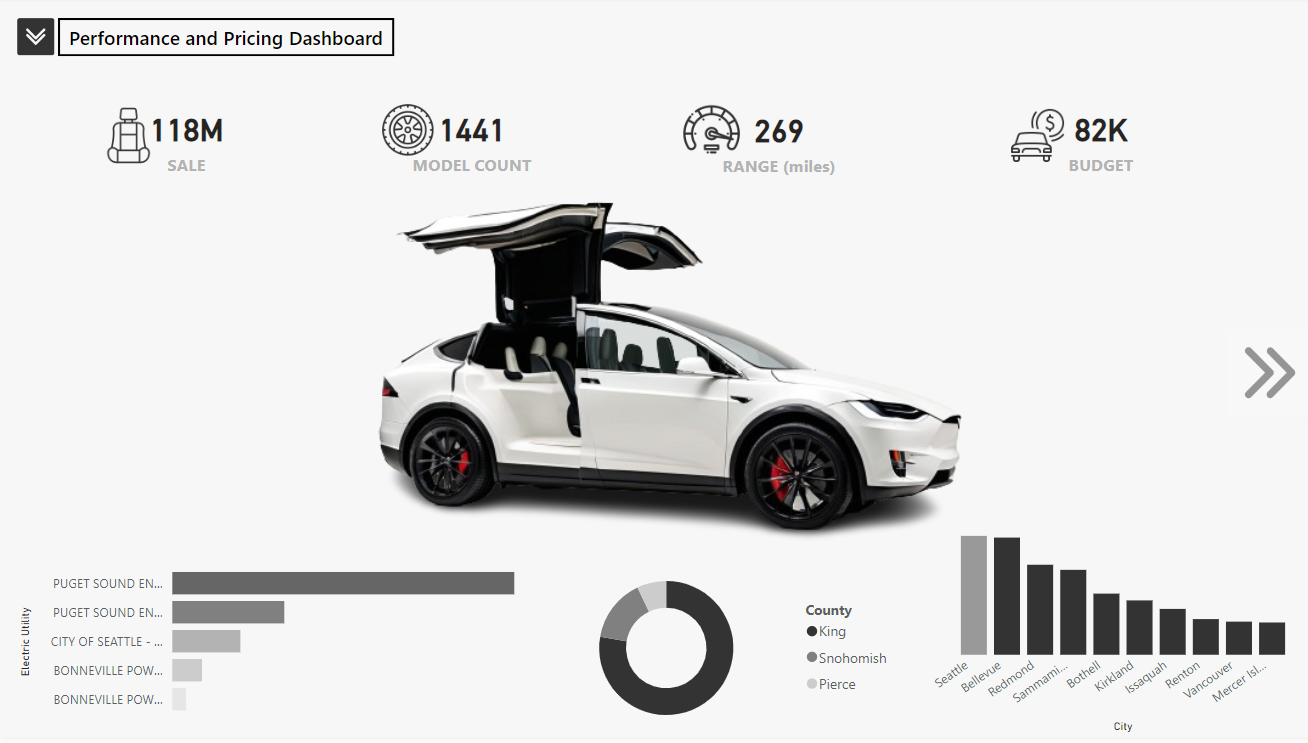

The dashboard page shown, as its layout file describes it:
{"tool":"powerbi","page":{"name":"TESLA","canvas":[1280,720],"ordinal":0},"visuals":[{"type":"card","fields":{"Values":["Sum(new_cars_set2.Pricing($))"]},"box":[110.9,82.1,144.9,112.8],"z":0},{"type":"card","fields":{"Values":["Max(new_cars_set2.Pricing($))"]},"box":[984.3,63.6,177,149.8],"z":1000},{"type":"card","fields":{"Values":["Max(new_cars_set2.Electric Range(miles))"]},"box":[665.6,63.1,188.7,150.8],"z":2000},{"type":"card","fields":{"Values":["CountNonNull(new_cars_set2.Model)"]},"box":[385.8,63.6,149.8,149.8],"z":3000},{"type":"clusteredBarChart","fields":{"Category":["new_cars_set2.Electric Utility"],"Y":["CountNonNull(new_cars_set2.Electric Utility)"]},"box":[16.5,535,493.1,176],"z":4000},{"type":"clusteredColumnChart","fields":{"Category":["new_cars_set2.City"],"Y":["CountNonNull(new_cars_set2.City)"]},"box":[902.6,501.9,367.7,217.9],"z":5000},{"type":"donutChart","fields":{"Y":["CountNonNull(new_cars_set2.County)"],"Category":["new_cars_set2.County"]},"box":[509.7,546.6,368.6,173.1],"z":6000},{"type":"shape","box":[58.6,20.3,327,37.2],"z":7000},{"type":"image","box":[10.7,15.6,52.5,45.7],"z":8000},{"type":"image","box":[368.6,98.2,60.3,62.2],"z":9000},{"type":"image","box":[88.5,101.2,76.8,67.1],"z":10000},{"type":"image","box":[971.7,102.1,78.8,65.2],"z":11000},{"type":"image","box":[655.6,96.3,77.8,65.2],"z":12000},{"type":"image","box":[275.2,81.2,730.8,530],"z":13000},{"type":"actionButton","box":[1195.8,322.8,84.2,85.1],"z":14000}]}

Visuals, with their boxes in screenshot pixels (x1, y1, x2, y2), scaled from the page's 1280x720 canvas onto the 1308x743 screenshot:
card - Sum(new_cars_set2.Pricing($)): [113,85,261,201]
card - Max(new_cars_set2.Pricing($)): [1006,66,1187,220]
card - Max(new_cars_set2.Electric Range(miles)): [680,65,873,221]
card - CountNonNull(new_cars_set2.Model): [394,66,547,220]
clusteredBarChart - new_cars_set2.Electric Utility x CountNonNull(new_cars_set2.Electric Utility): [17,552,521,734]
clusteredColumnChart - new_cars_set2.City x CountNonNull(new_cars_set2.City): [922,518,1298,742]
donutChart - CountNonNull(new_cars_set2.County) x new_cars_set2.County: [521,564,898,742]
shape: [60,21,394,59]
image: [11,16,65,63]
image: [377,101,438,166]
image: [90,104,169,174]
image: [993,105,1073,173]
image: [670,99,749,167]
image: [281,84,1028,631]
actionButton: [1222,333,1307,421]
